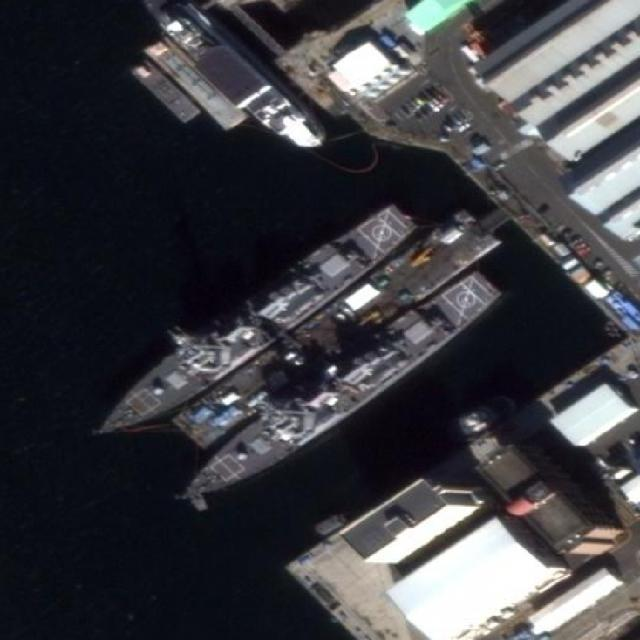Destroyer: (85, 191, 420, 456), (169, 261, 504, 525)
Other Ship: (131, 3, 326, 152)
